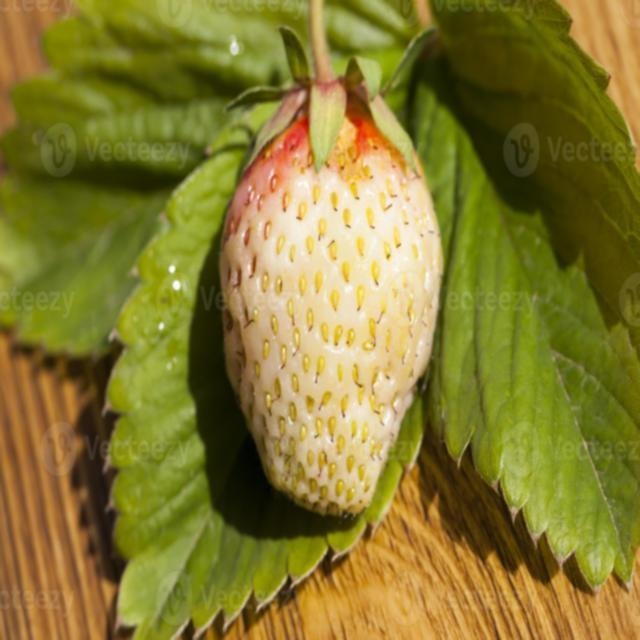strawberry: (220, 90, 444, 512)
